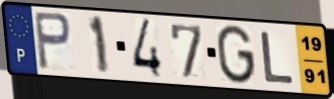1: (86, 14, 112, 76)
4: (129, 17, 166, 81)
7: (168, 22, 204, 79)
G: (216, 24, 257, 87)
L: (259, 30, 296, 86)
P: (32, 10, 74, 73)
